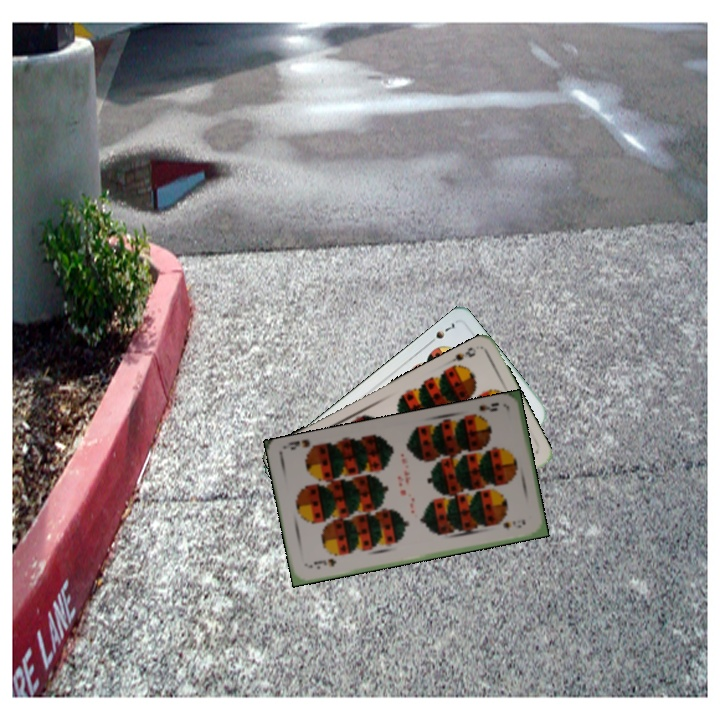S7: (424, 319, 458, 347)
S9: (442, 343, 478, 373), (466, 399, 502, 422), (304, 555, 338, 571)
